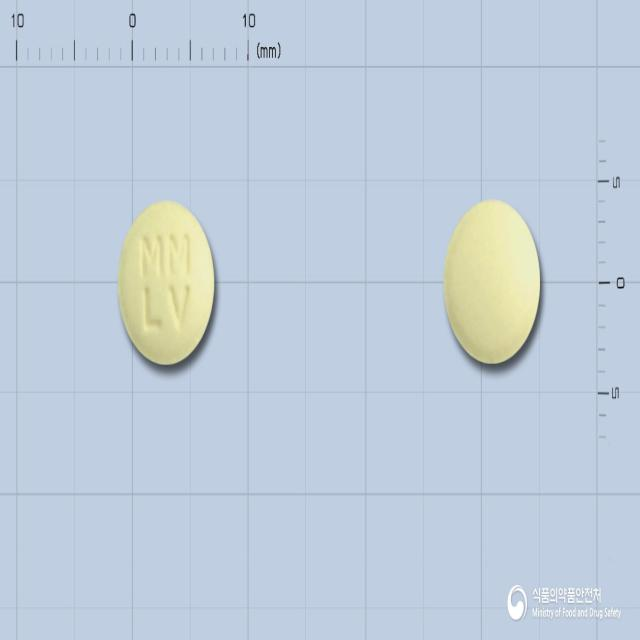Entecabell: (117, 198, 215, 366)
